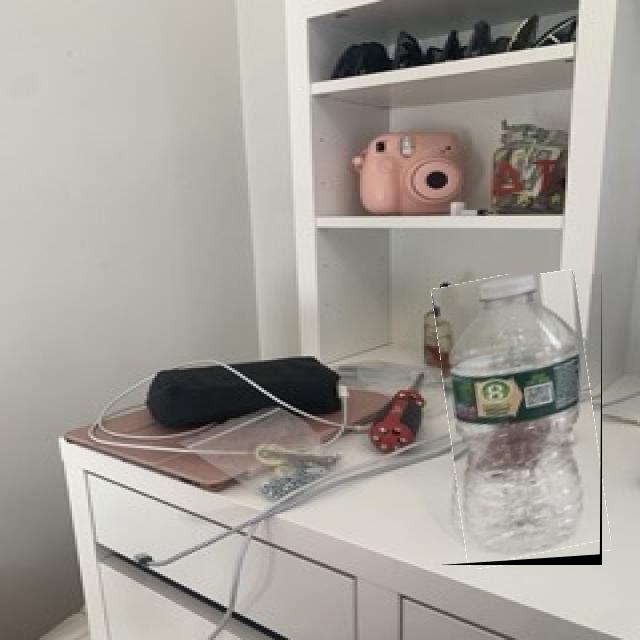water_bottle: (441, 274, 602, 565)
